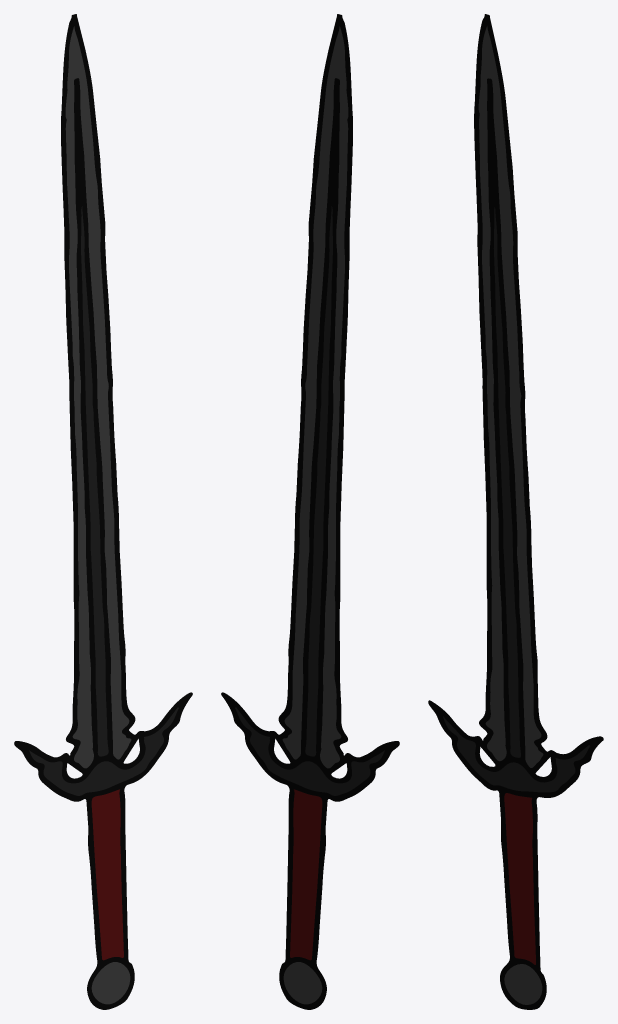
Rendered from épée Plouf.fbx.
3 renders of one model, left to right at view 1: azimuth 30°, elevation 25°; view 2: azimuth 150°, elevation 25°; view 3: azimuth 330°, elevation 25°, orthographic.
Parts seen in each view (by area): view 1: épée Plouf; view 2: épée Plouf; view 3: épée Plouf.
Boxes of the visible parts, x1,y1,x2,y2 form: épée Plouf: (14, 14, 192, 1009); épée Plouf: (221, 14, 399, 1009); épée Plouf: (428, 14, 603, 1009).
Size of the model in its own units: 56.12 by 301 by 1.32e-05.
